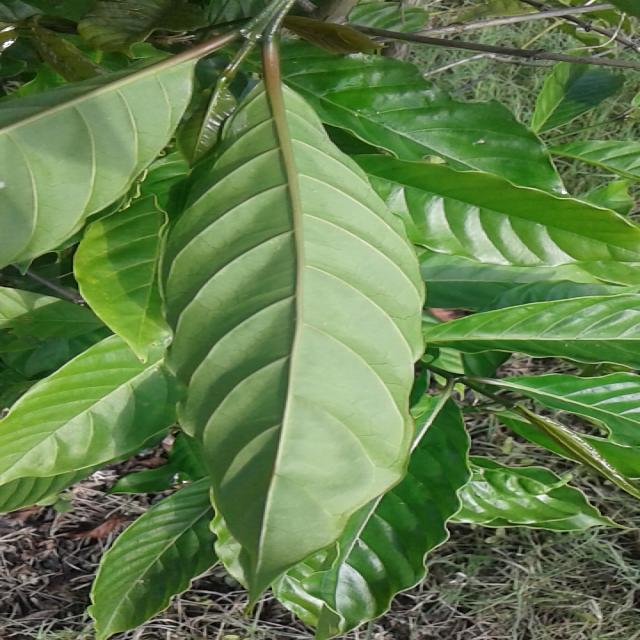Sanas: (164, 86, 426, 604)
